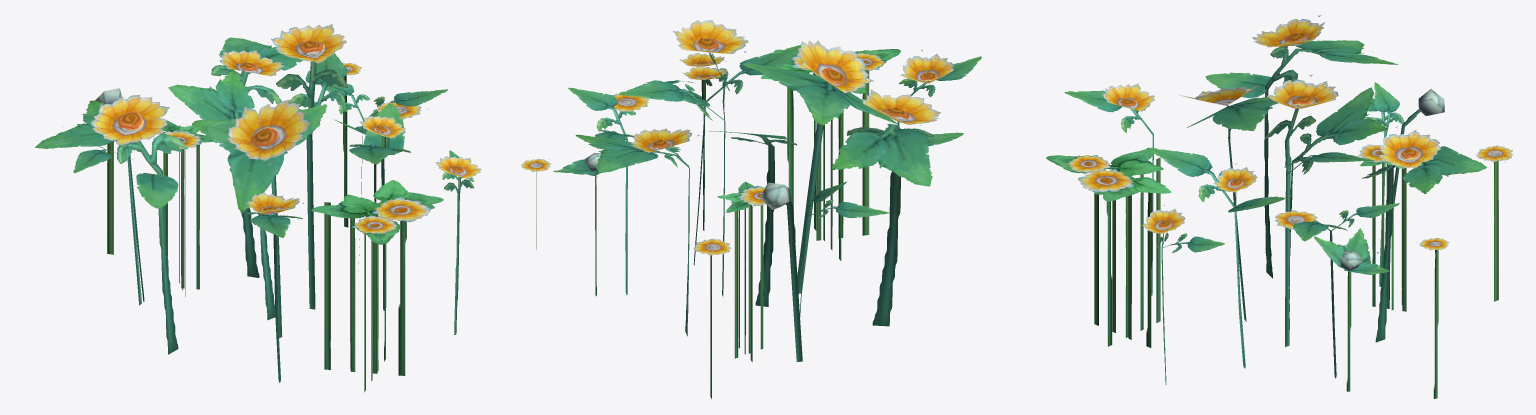
File: map_1003_slzw_03.FBX
3 views of the same model, side by side, from view 1: azimuth 30°, elevation 25°; view 2: azimuth 150°, elevation 25°; view 3: azimuth 270°, elevation 25° (orthographic). The views are drawn at different scales.
Visible parts, largest first — view 1: map_1003_slzw_03; view 2: map_1003_slzw_03; view 3: map_1003_slzw_03.
Part boxes in pixels (x1,y1,x2,y2): map_1003_slzw_03: (35,24,481,392); map_1003_slzw_03: (521,20,981,398); map_1003_slzw_03: (1046,15,1512,398).
Size of the model in its own units: 2.21 by 1.34 by 2.24.
